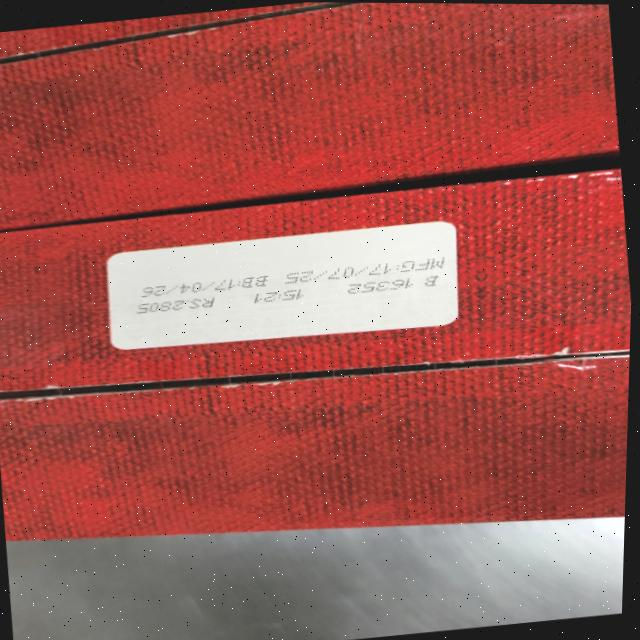BB: (138, 272, 274, 302)
Batch: (342, 273, 448, 298)
MFG: (278, 251, 451, 290)
RS: (138, 294, 223, 315)
TimeStamp: (249, 288, 317, 309)
